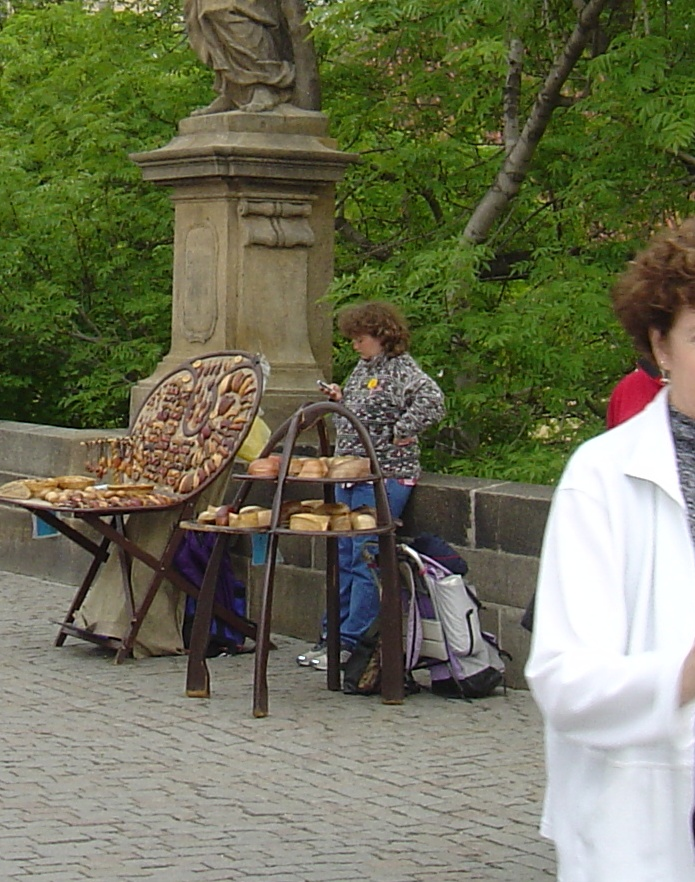person: (315, 298, 433, 670)
